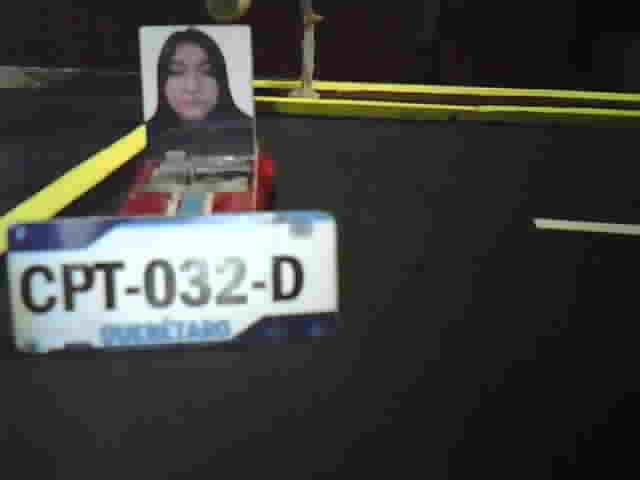PLACA: (6, 208, 343, 358)
ROSTRO: (143, 27, 251, 156)
